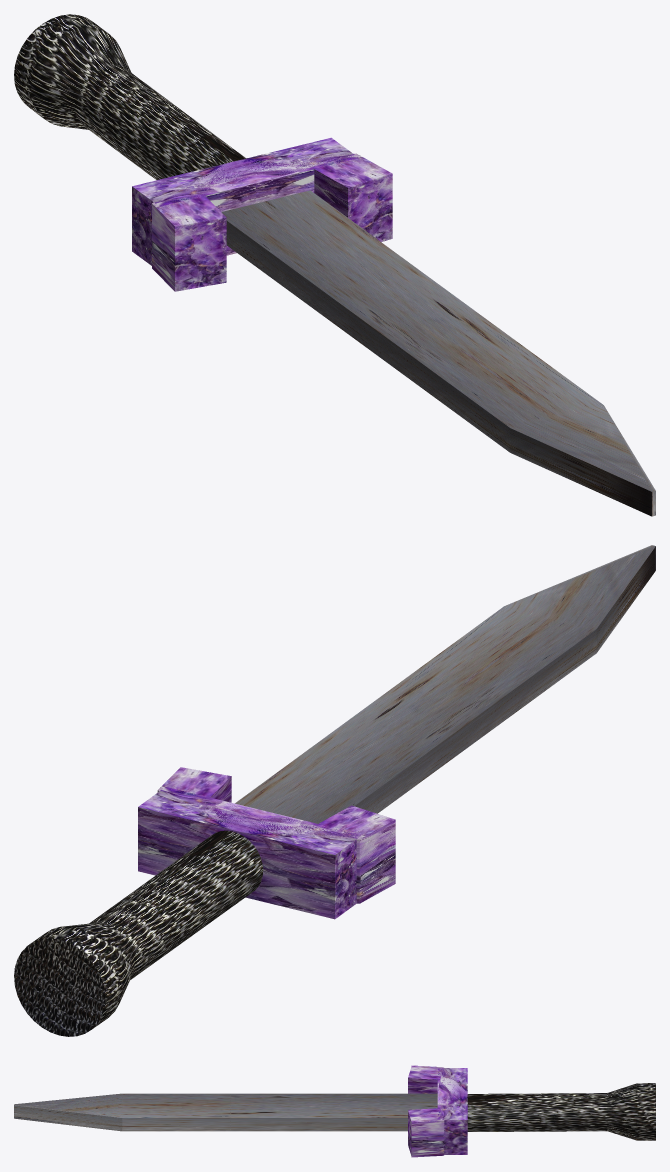
File: sword.glb
3 renders of one model, top to bottom at view 1: azimuth 30°, elevation 25°; view 2: azimuth 150°, elevation 25°; view 3: azimuth 270°, elevation 25°, orthographic. The views are drawn at different scales.
Visible parts, largest first — view 1: Cube.002; view 2: Cube.002; view 3: Cube.002.
Boxes of the visible parts, x1,y1,x2,y2 form: Cube.002: [14, 14, 655, 516]; Cube.002: [14, 545, 655, 1036]; Cube.002: [14, 1065, 655, 1157].
Bounding box in the file's own units: 329 × 141 × 1566.
Materials: 4 (4 with a texture image).
